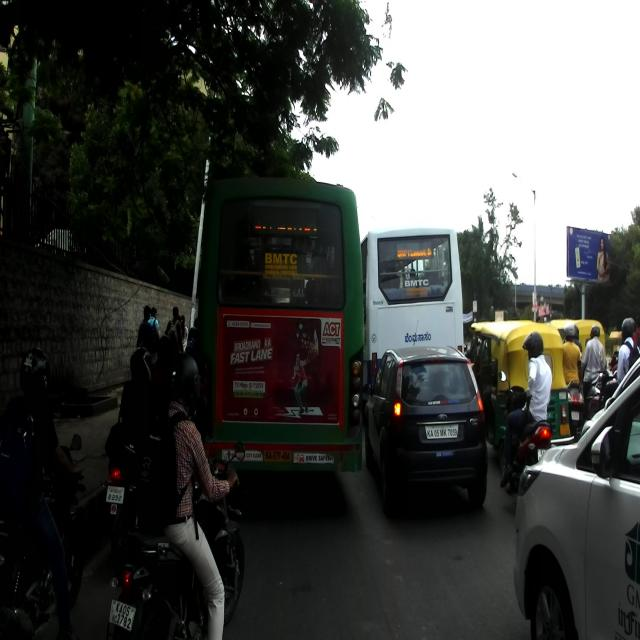autorickshaw: (475, 318, 574, 465)
bus: (193, 174, 365, 497), (358, 223, 464, 418)
car: (514, 357, 638, 637), (361, 345, 489, 516)
motorcycle: (105, 441, 248, 638), (0, 431, 85, 639), (497, 366, 552, 492), (104, 440, 146, 575)
